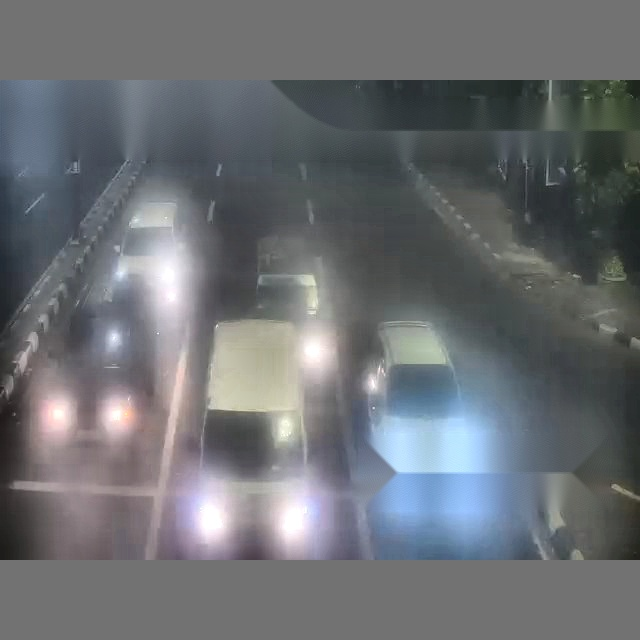Mobil: (115, 203, 185, 316)
